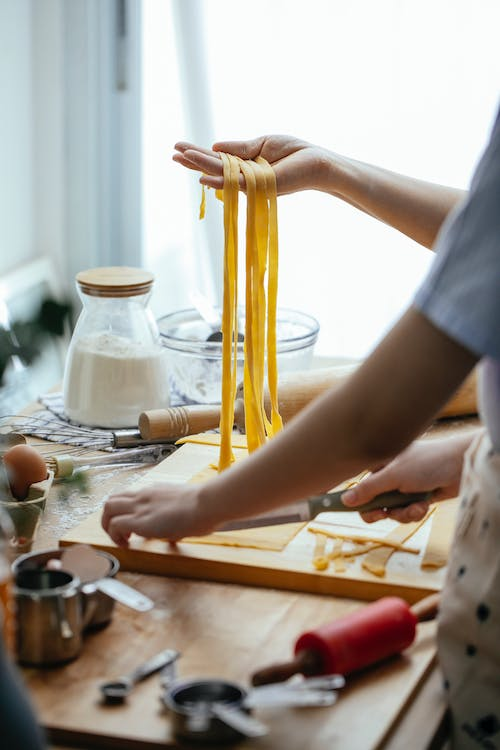knife: (214, 481, 444, 533)
